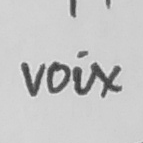i: (72, 48, 89, 97)
o: (45, 59, 71, 96)
v: (19, 59, 45, 99)
x: (89, 59, 124, 99)
